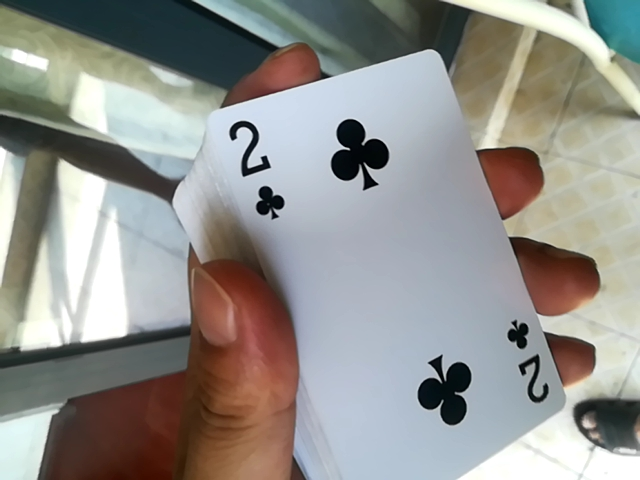mh 2: (194, 43, 571, 474)
